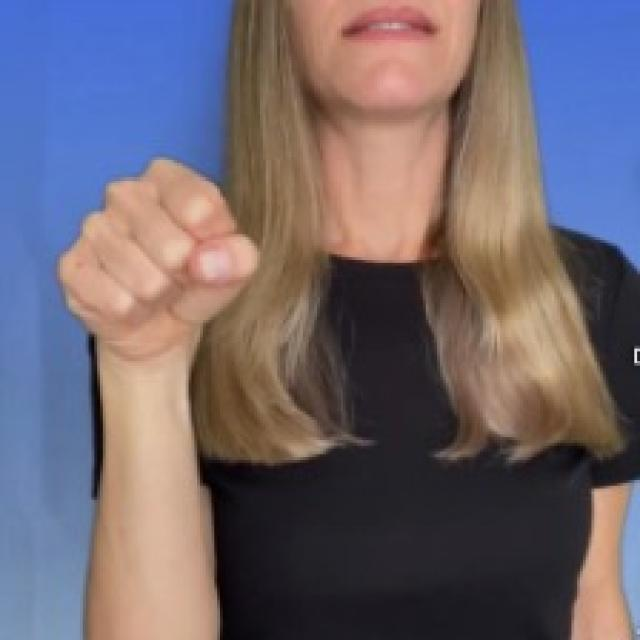yes: (52, 148, 266, 359)
